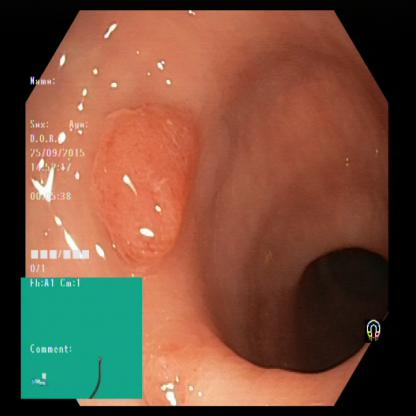Polyps: (87, 90, 207, 261)
